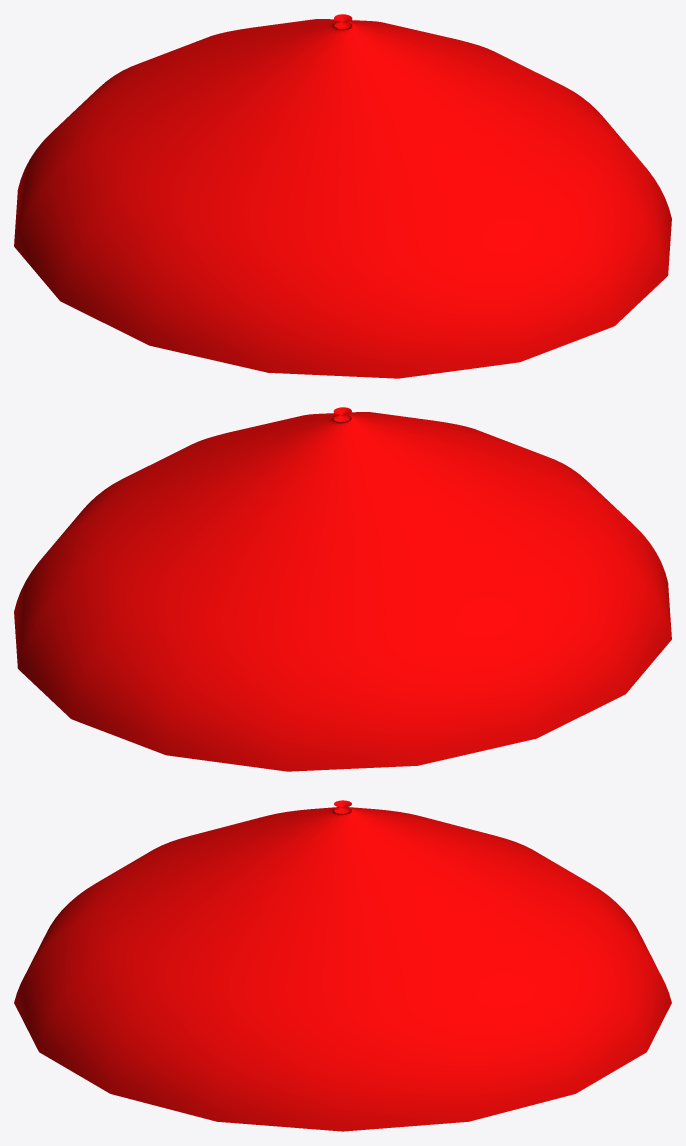
File: fenMo.FBX
3 renders of one model, top to bottom at view 1: azimuth 30°, elevation 25°; view 2: azimuth 150°, elevation 25°; view 3: azimuth 270°, elevation 25°, orthographic. The views are drawn at different scales.
Visible parts, largest first — view 1: Line05; view 2: Line05; view 3: Line05.
Boxes of the visible parts, x1=… form: Line05: x1=14, y1=14, x2=671, y2=378; Line05: x1=14, y1=407, x2=671, y2=771; Line05: x1=14, y1=800, x2=671, y2=1131.
Bounding box in the file's own units: 914 × 331 × 991.
